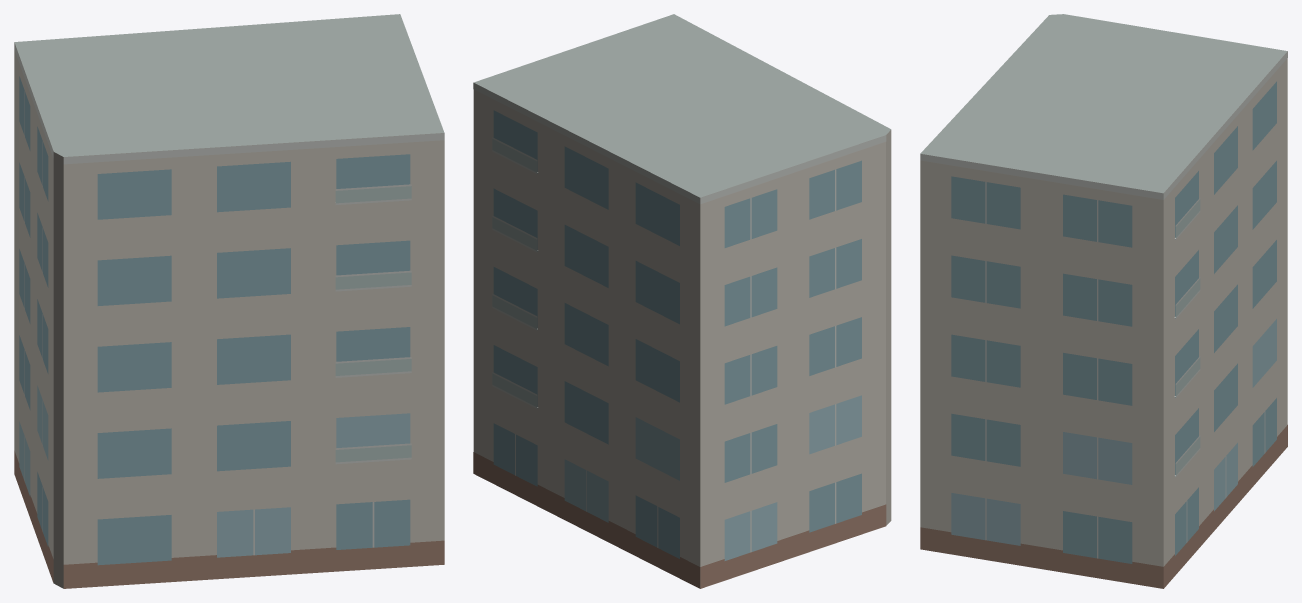
File: survey-upis-32878397.glb
The picture shows the model from 3 angles, left to right: view 1: azimuth 30°, elevation 25°; view 2: azimuth 150°, elevation 25°; view 3: azimuth 270°, elevation 25°; orthographic projection. The views are drawn at different scales.
Visible parts, largest first — view 1: survey-upis-32878397.tmp; view 2: survey-upis-32878397.tmp; view 3: survey-upis-32878397.tmp.
Boxes of the visible parts, x1,y1,x2,y2 form: survey-upis-32878397.tmp: (14, 14, 444, 588); survey-upis-32878397.tmp: (473, 14, 891, 588); survey-upis-32878397.tmp: (920, 14, 1287, 588).
Size of the model in its own units: 14.01 by 14.4 by 12.14.
